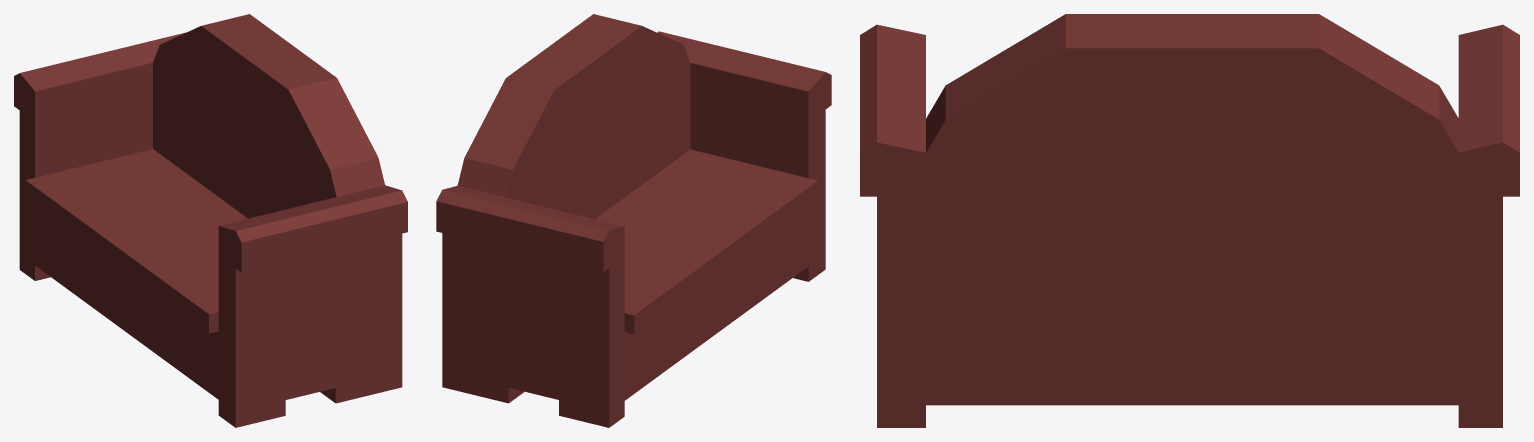
File: sofa.fbx
3 views of the same model, side by side, from view 1: azimuth 30°, elevation 25°; view 2: azimuth 150°, elevation 25°; view 3: azimuth 270°, elevation 25° (orthographic). The views are drawn at different scales.
Visible parts, largest first — view 1: Cube; view 2: Cube; view 3: Cube.
Boxes of the visible parts, bbox=[...] form: Cube: bbox=[14, 14, 407, 427]; Cube: bbox=[436, 14, 831, 427]; Cube: bbox=[860, 14, 1519, 427].
Bounding box in the file's own units: 115 × 164 × 258.
